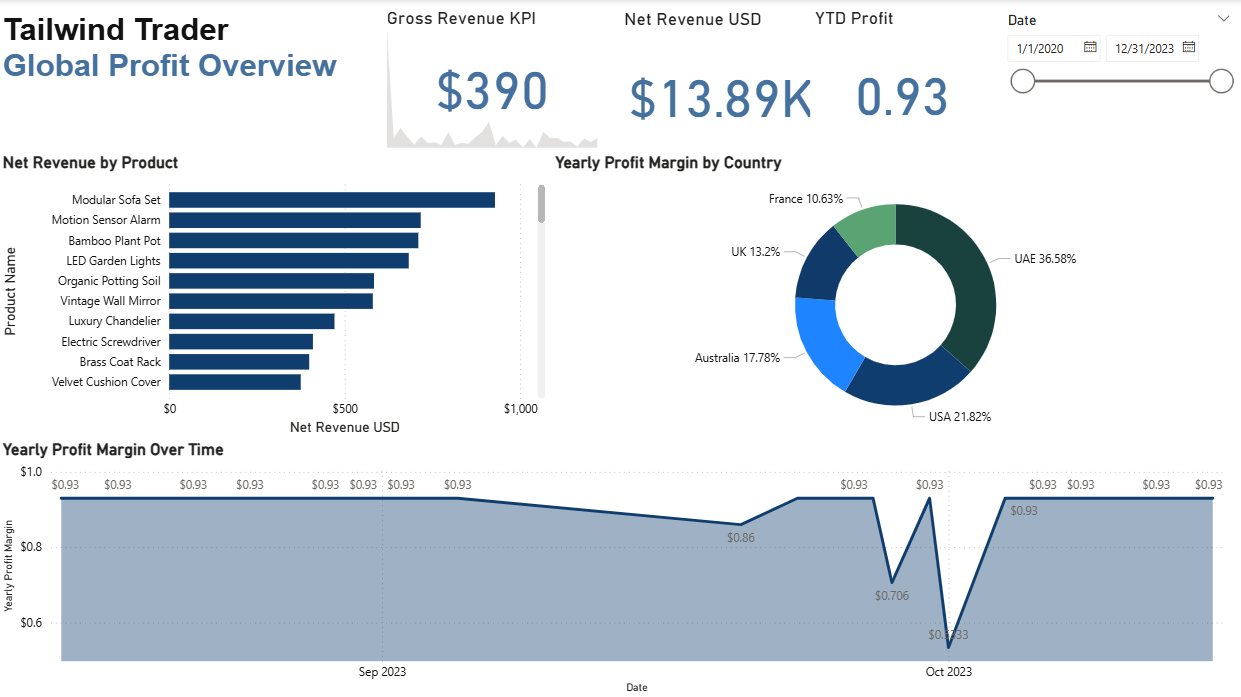

The page's visual inventory and layout, read from the dashboard file:
{"tool":"powerbi","page":{"name":"Profit Overview","canvas":[1280,720],"ordinal":1},"visuals":[{"type":"textbox","box":[0,8.9,395.5,149.8],"z":0},{"type":"clusteredBarChart","title":"Net Revenue by Product","fields":{"Category":["Sales in USD.Product Name"],"Y":["Sum(Sales in USD.Net Revenue USD)"]},"box":[0,158.5,568.6,295.2],"z":1000},{"type":"donutChart","title":"Yearly Profit Margin by Country","fields":{"Category":["Sales in USD.Country Name"],"Y":["Sum(Sales in USD.Net Revenue USD)"]},"box":[568.6,158.5,711.1,293.7],"z":2000},{"type":"areaChart","title":"Yearly Profit Margin Over Time","fields":{"Category":["CalendarTable.Date"],"Y":["Sales in USD.Yearly Profit Margin"]},"box":[0,453.7,1279.6,266.1],"z":3000},{"type":"card","title":"Net Revenue USD","fields":{"Values":["Sum(Sales in USD.Net Revenue USD)","select"]},"box":[639.8,10.2,215.2,149.8],"z":4000},{"type":"kpi","title":"Gross Revenue KPI","fields":{"Indicator":["Sum(Sales in USD.Gross Revenue USD)"],"TrendLine":["CalendarTable.Date"]},"box":[395.5,8.7,226.8,149.8],"z":5000},{"type":"card","title":"YTD Profit","fields":{"Values":["Sales in USD.YTD Profit Margin"]},"box":[855,7.3,190.5,149.8],"z":6000},{"type":"slicer","fields":{"Values":["CalendarTable.Date"]},"box":[1045.5,8.7,234.1,149.8],"z":7000}]}

Visuals, with their boxes in screenshot pixels (x1, y1, x2, y2), scaled from the page's 1280x720 canvas onto the 1241x697 screenshot:
textbox: bbox=[0, 9, 383, 154]
"Net Revenue by Product" clusteredBarChart: bbox=[0, 153, 551, 439]
"Yearly Profit Margin by Country" donutChart: bbox=[551, 153, 1240, 438]
"Yearly Profit Margin Over Time" areaChart: bbox=[0, 439, 1240, 696]
"Net Revenue USD" card: bbox=[620, 10, 829, 155]
"Gross Revenue KPI" kpi: bbox=[383, 8, 603, 153]
"YTD Profit" card: bbox=[829, 7, 1014, 152]
slicer - CalendarTable.Date: bbox=[1014, 8, 1240, 153]
